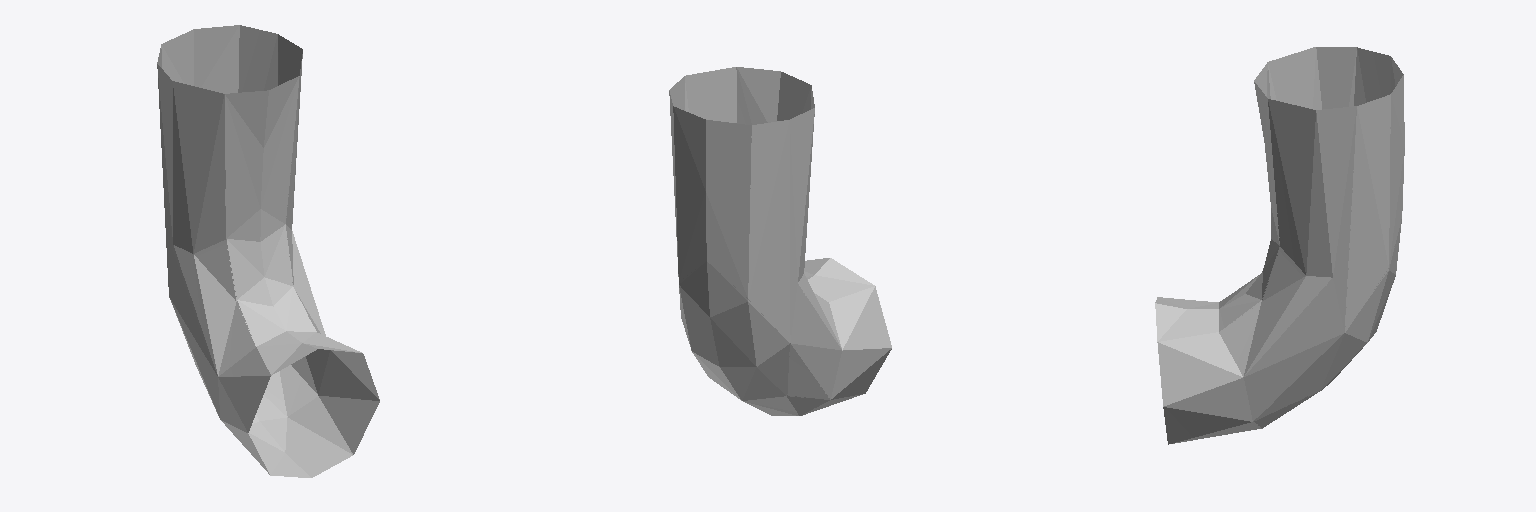
The model's file is toliet2.obj.
The picture shows the model from 3 angles: view 1: azimuth 30°, elevation 25°; view 2: azimuth 150°, elevation 25°; view 3: azimuth 270°, elevation 25°; orthographic projection.
Bounding box in the file's own units: 0.0754 × 0.1983 × 0.1235.